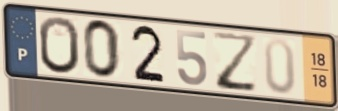0: (81, 18, 125, 80), (261, 35, 298, 97)
2: (129, 24, 167, 86)
5: (173, 27, 209, 88)
O: (36, 14, 82, 76)
Z: (211, 29, 260, 95)
